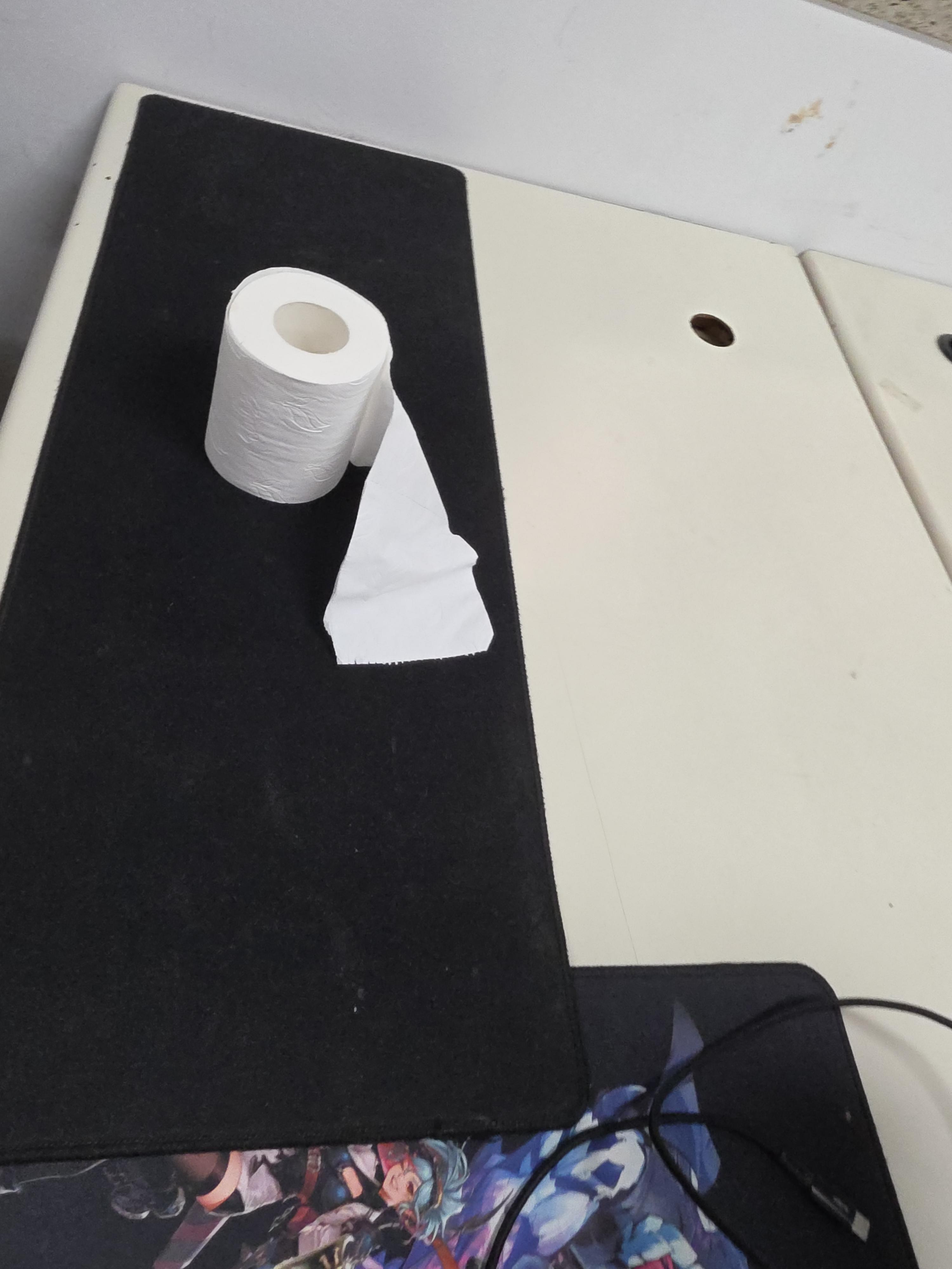tissue: (205, 267, 495, 666)
